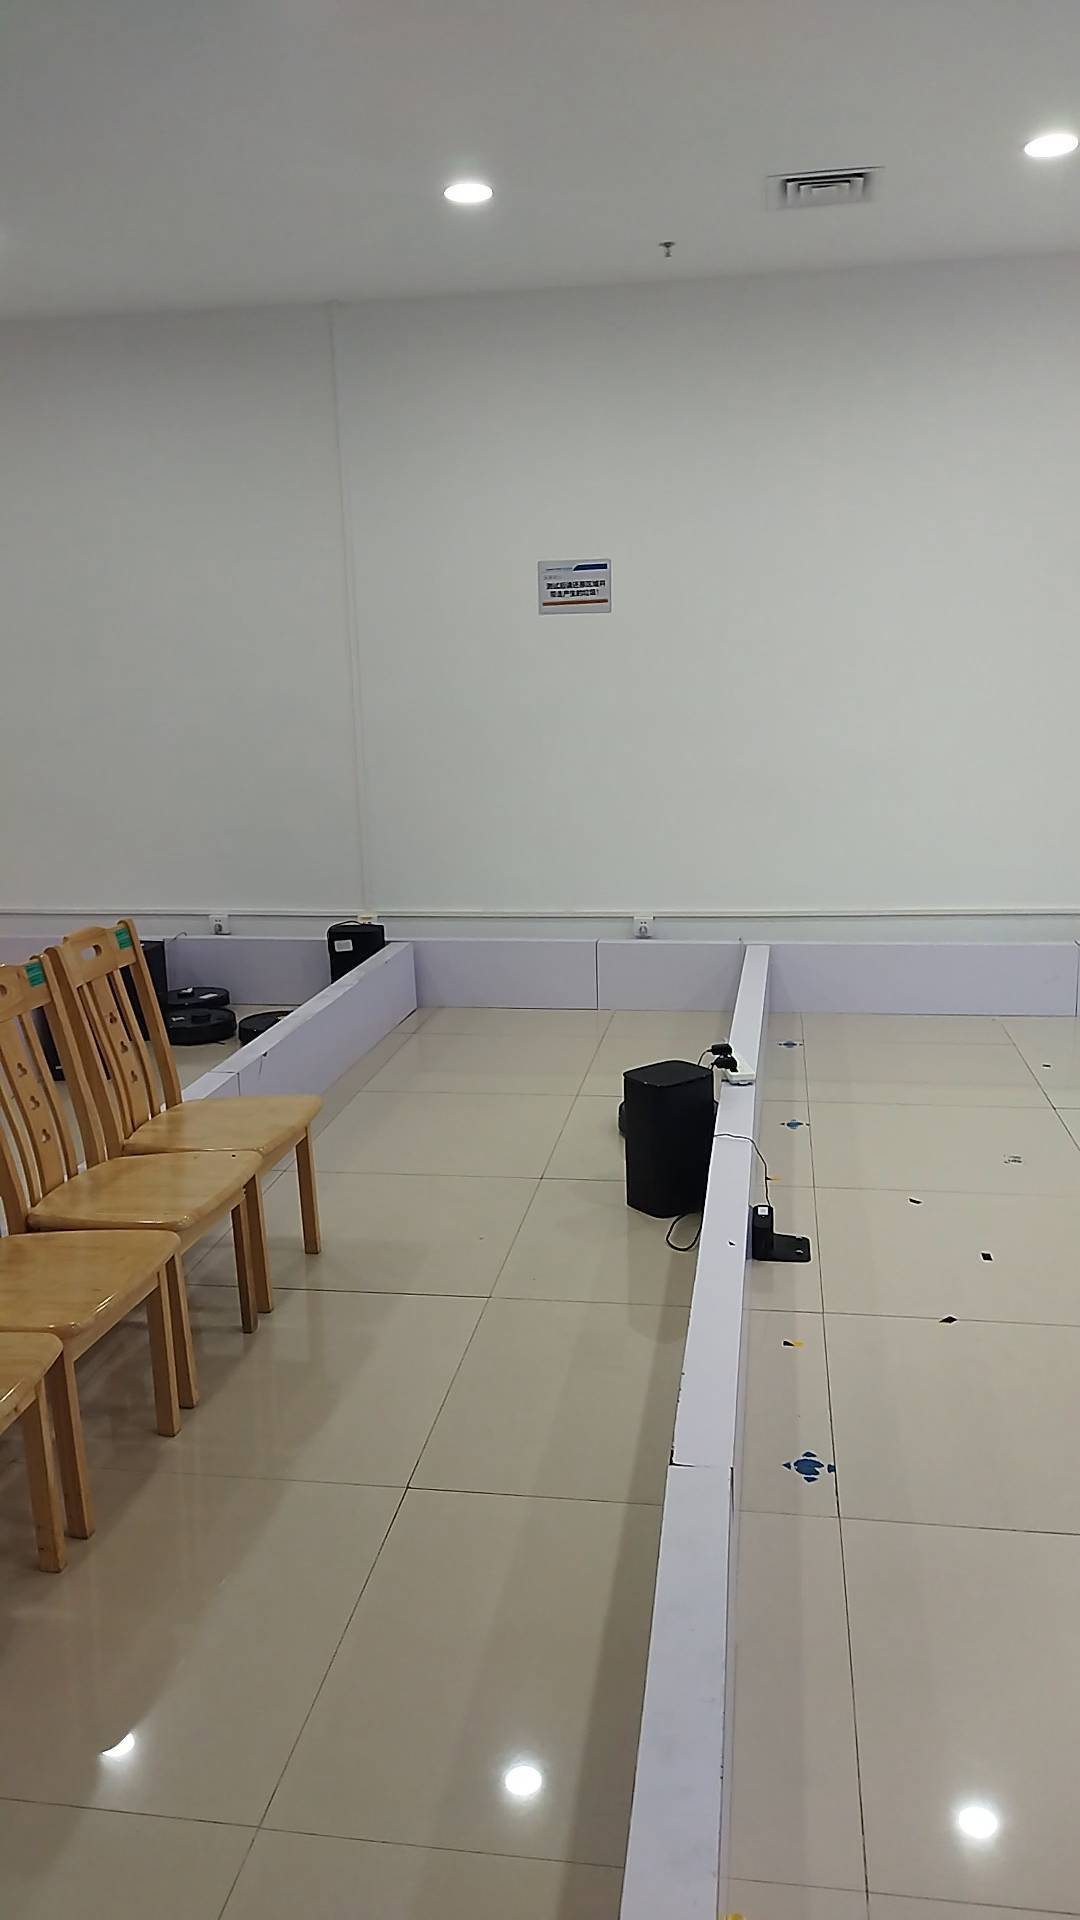dust collecting barrel: (620, 1063, 713, 1220), (327, 924, 392, 988)
recharge seat: (748, 1203, 816, 1261)
